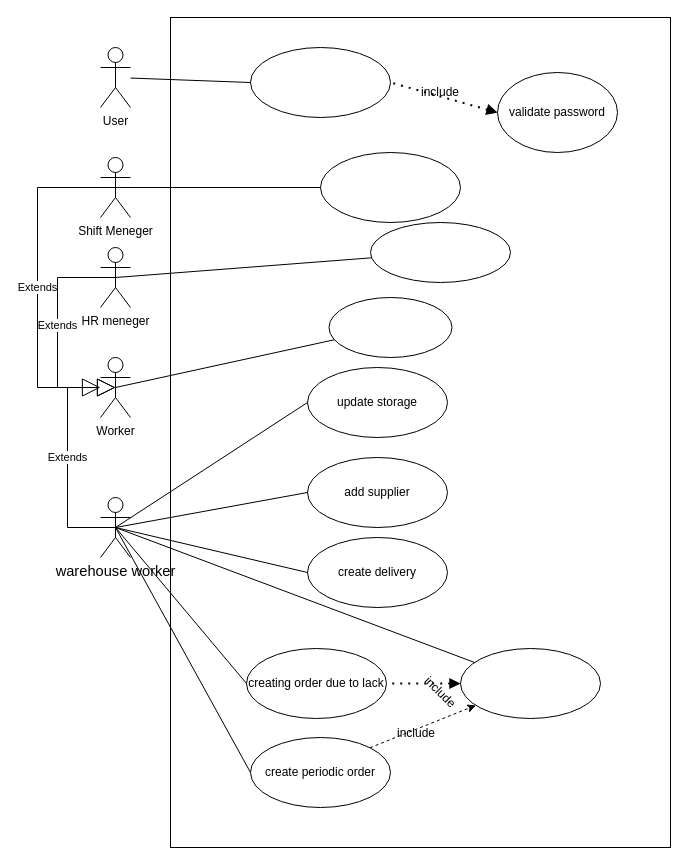
This 688x865 diagram has some shape labels left out. The shapes that lost their labels are listed below. From the top down, each one's box as (x1, y1, x2, y2) in pixels, then its label:
(250, 46, 390, 118): Login
(320, 152, 460, 222): Place workers for shifts
(370, 222, 510, 282): Update worker
(328, 296, 452, 358): Availability for shifts
(460, 648, 600, 718): creating new order
